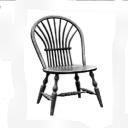chair_success: (29, 14, 104, 120)
